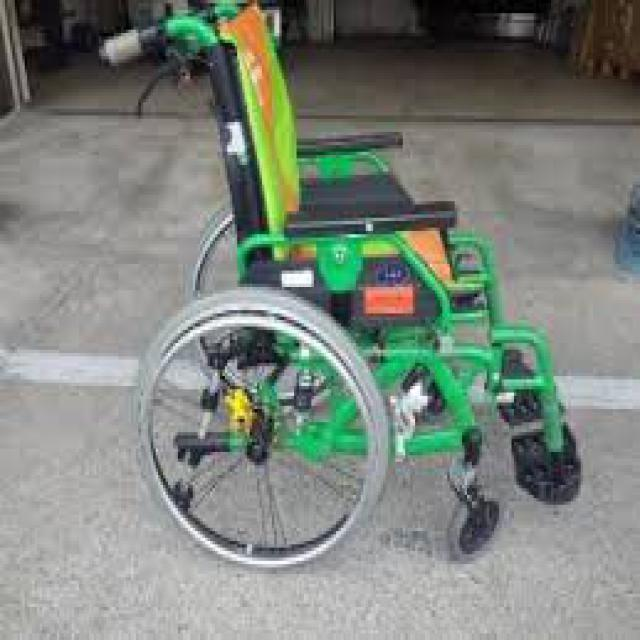wheelchair: (82, 7, 610, 620)
